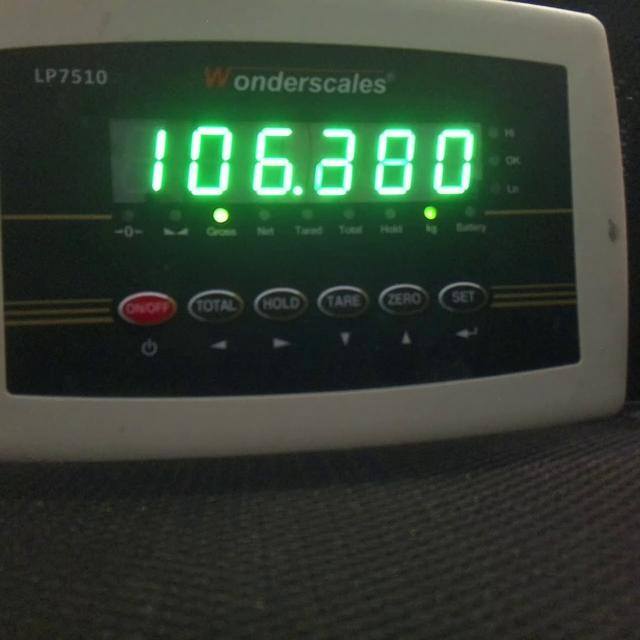.: (291, 184, 305, 198)
0: (187, 126, 232, 195)
1: (150, 128, 167, 192)
2: (312, 127, 356, 196)
6: (252, 117, 297, 204)
8: (374, 128, 415, 195)
